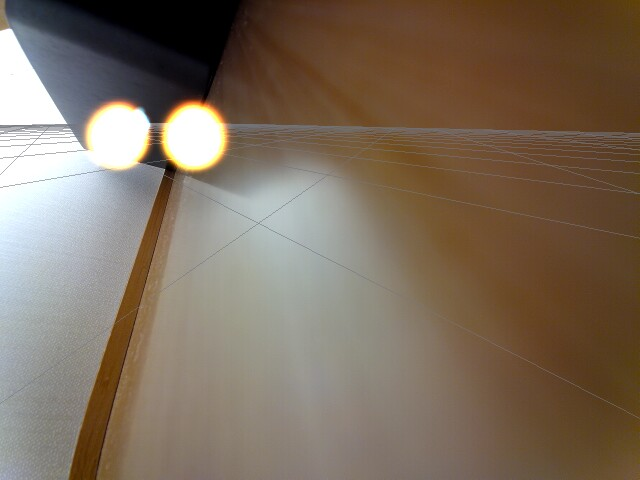firebig: (160, 101, 229, 177)
